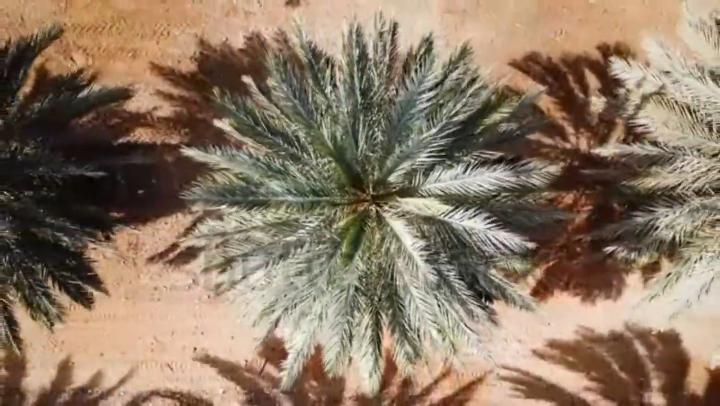Date-Palm-Crown: (300, 126, 438, 270)
